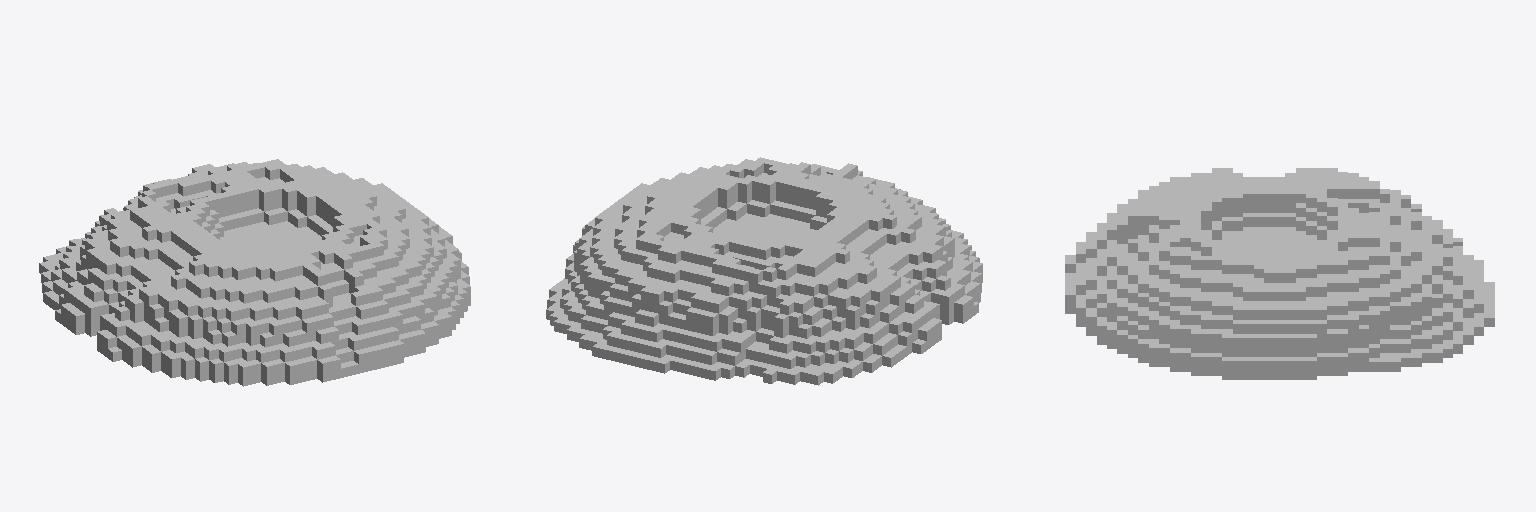
Rendered from Murder assets-2.obj.
The picture shows the model from 3 angles: view 1: azimuth 30°, elevation 25°; view 2: azimuth 150°, elevation 25°; view 3: azimuth 270°, elevation 25°; orthographic projection.
Visible parts, largest first — view 1: object 1; view 2: object 1; view 3: object 1.
Part boxes in pixels (x1,y1,x2,y2): object 1: (39, 159, 470, 386); object 1: (546, 157, 982, 385); object 1: (1065, 168, 1494, 379).
Size of the model in its own units: 3.9 by 0.8 by 4.1.